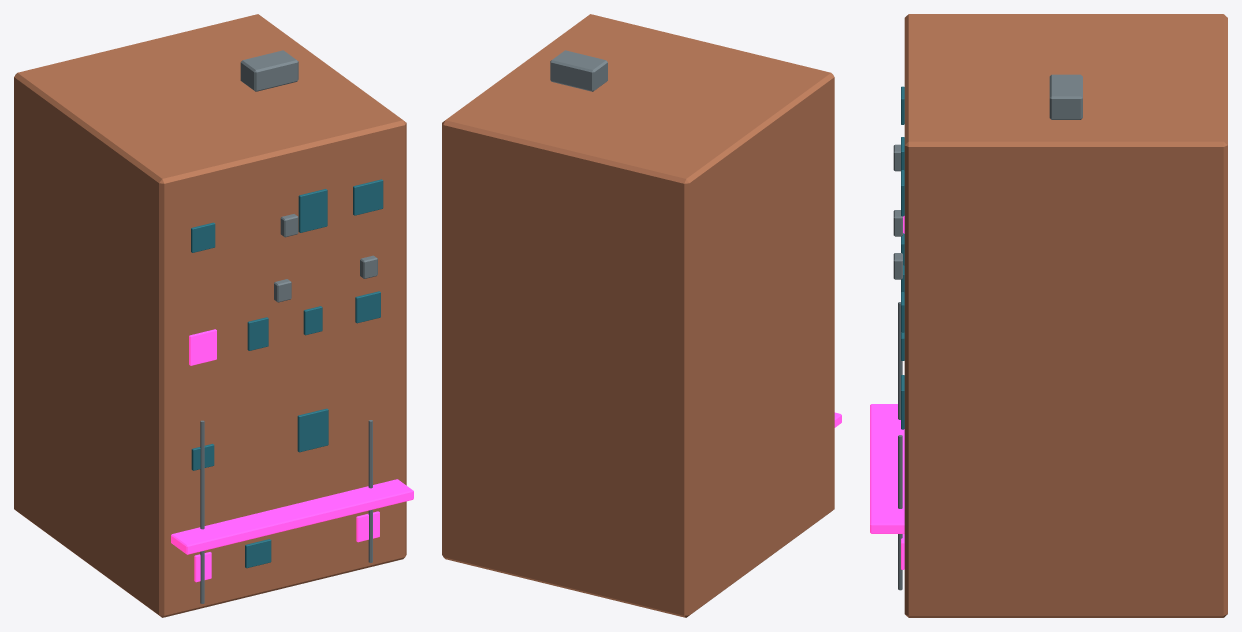
The model's file is building_003_seed100.glb.
3 views of the same model, side by side, from view 1: azimuth 30°, elevation 25°; view 2: azimuth 150°, elevation 25°; view 3: azimuth 270°, elevation 25° (orthographic). The views are drawn at different scales.
Parts seen in each view (by area): view 1: building_003_seed100; view 2: building_003_seed100; view 3: building_003_seed100.
Boxes of the visible parts, <box> form: building_003_seed100: <box>14,14,413,617</box>; building_003_seed100: <box>442,14,841,617</box>; building_003_seed100: <box>870,14,1227,617</box>.
Size of the model in its own units: 5.93 by 10.55 by 6.84.
